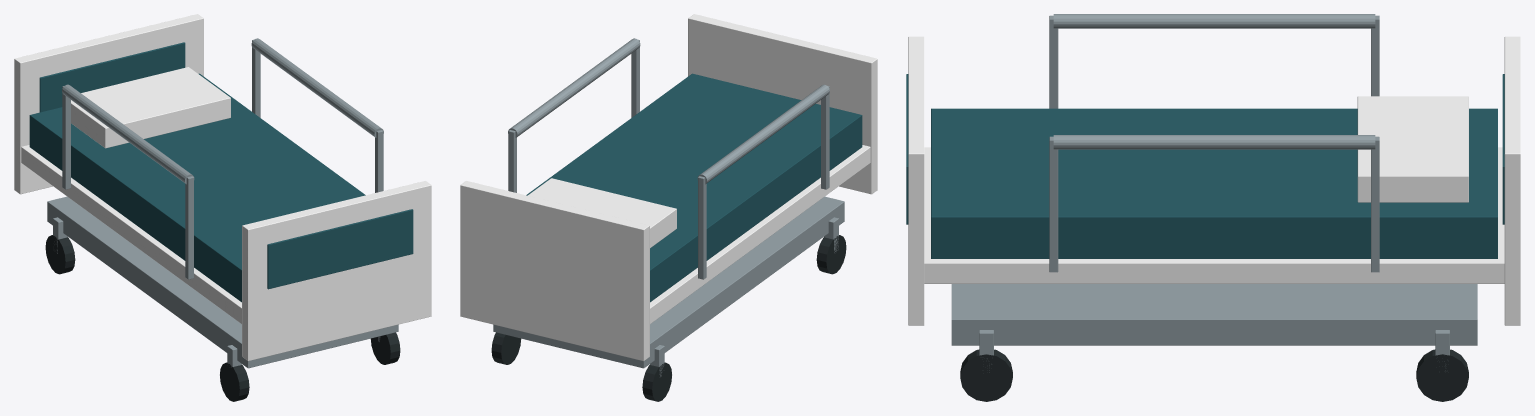
File: hospital-bed.glb
3 renders of one model, left to right at view 1: azimuth 30°, elevation 25°; view 2: azimuth 150°, elevation 25°; view 3: azimuth 270°, elevation 25°, orthographic. The views are drawn at different scales.
Visible parts, largest first — view 1: Mattress, End_Post, Chassis, End_Post.001, Pillow, Inset, Deck, Inset.001, Safety_Rail.001, Safety_Rail, Caster.002, Caster.001 (+5 smaller); view 2: Mattress, End_Post.001, End_Post, Chassis, Deck, Pillow, Safety_Rail.001, Safety_Rail, Caster.001, Caster.002, Rail_Upright.001, Rail_Upright (+3 smaller); view 3: Mattress, Chassis, Deck, Pillow, End_Post, End_Post.001, Safety_Rail, Safety_Rail.001, Caster.003, Caster, Rail_Upright.002, Rail_Upright.003 (+2 smaller).
Boxes of the visible parts, x1,y1,x2,y2 form: Mattress: (29,73,365,302); End_Post: (242,181,431,361); Chassis: (47,196,398,368); End_Post.001: (14,14,203,194); Pillow: (71,67,230,148); Inset: (267,209,413,289); Deck: (21,145,241,323); Inset.001: (39,42,185,112); Safety_Rail.001: (251,38,383,137); Safety_Rail: (62,84,194,184); Caster.002: (45,235,75,274); Caster.001: (220,362,249,401); Mattress: (526,73,862,302); End_Post.001: (460,181,649,361); End_Post: (688,14,877,194); Chassis: (493,196,844,368); Deck: (650,145,870,323); Pillow: (528,178,676,247); Safety_Rail.001: (508,38,640,137); Safety_Rail: (697,84,829,184); Caster.001: (816,235,846,274); Caster.002: (642,362,671,401); Rail_Upright.001: (698,176,706,279); Rail_Upright: (821,86,829,189); Mattress: (931,108,1497,258); Chassis: (951,284,1477,345); Deck: (924,147,1504,283); Pillow: (1357,96,1468,202); End_Post: (908,36,924,325); End_Post.001: (1504,36,1520,325); Safety_Rail: (1053,14,1375,28); Safety_Rail.001: (1053,135,1375,149); Caster.003: (960,349,1012,401); Caster: (1416,349,1468,401); Rail_Upright.002: (1049,136,1058,272); Rail_Upright.003: (1371,136,1379,272).
Bounding box in the file's own units: 1.03 × 1.04 × 2.1.
